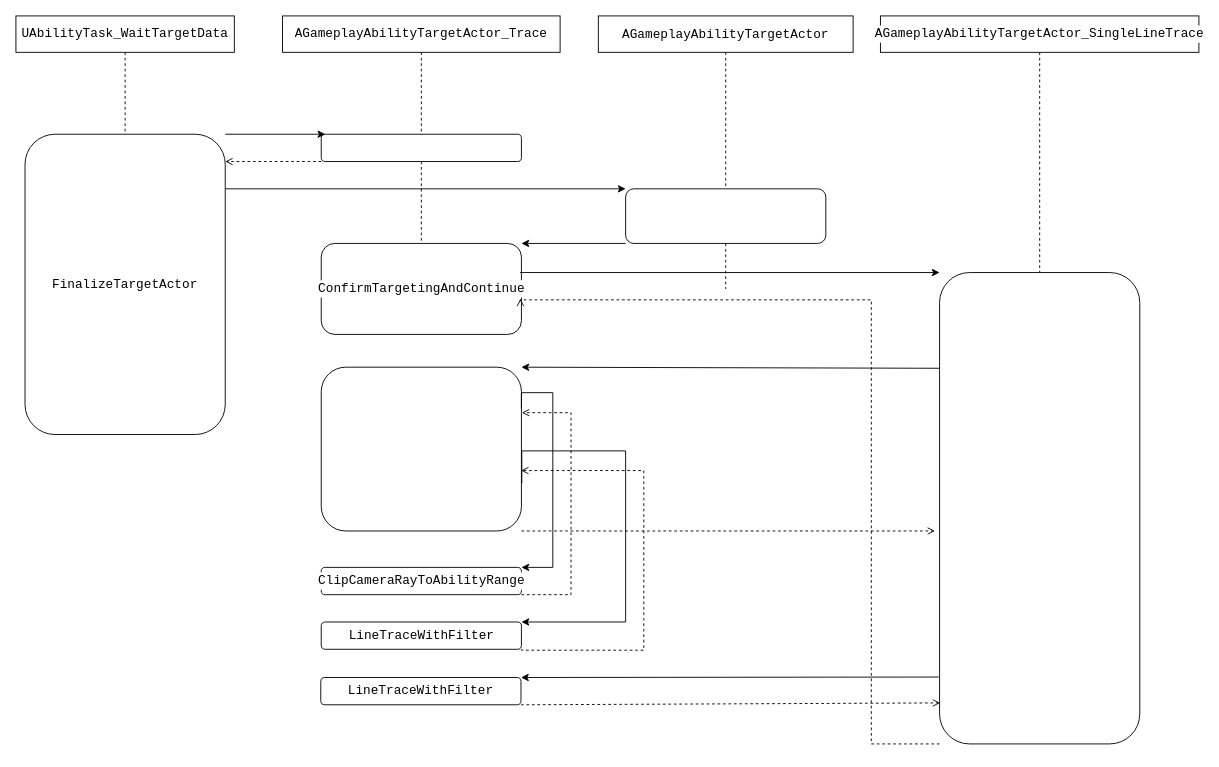
Image size: 1219x767. Some labels were removed from this diagram. Each missing label, with the centre of its shape:
"AimWithPlayerController" belongs at pixel 420 448.
"ConfirmTargeting" belongs at pixel 725 215.
"PerformTrace" belongs at pixel 1039 508.
"StartTargeting" belongs at pixel 420 147.
